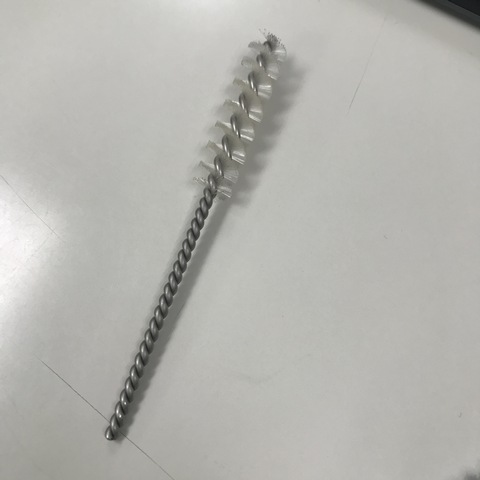Twist Brush-B: (95, 32, 304, 447)
